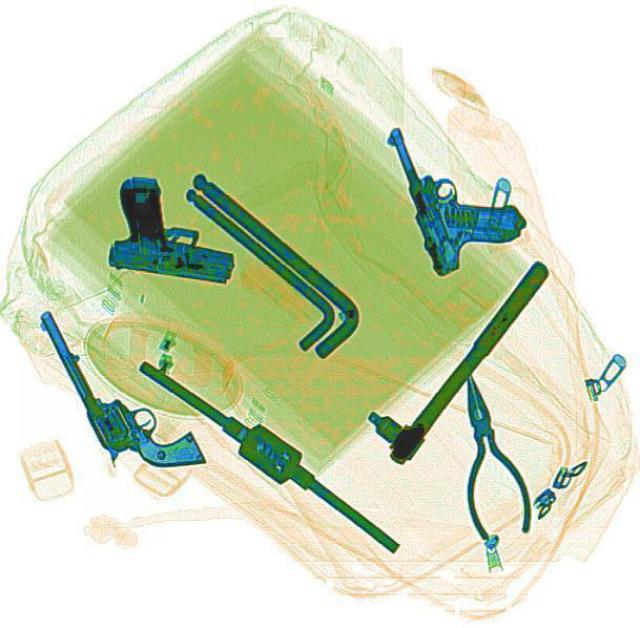Gun: (31, 280, 205, 492), (379, 99, 537, 280), (104, 169, 248, 284)
Pliers: (436, 365, 536, 540)
